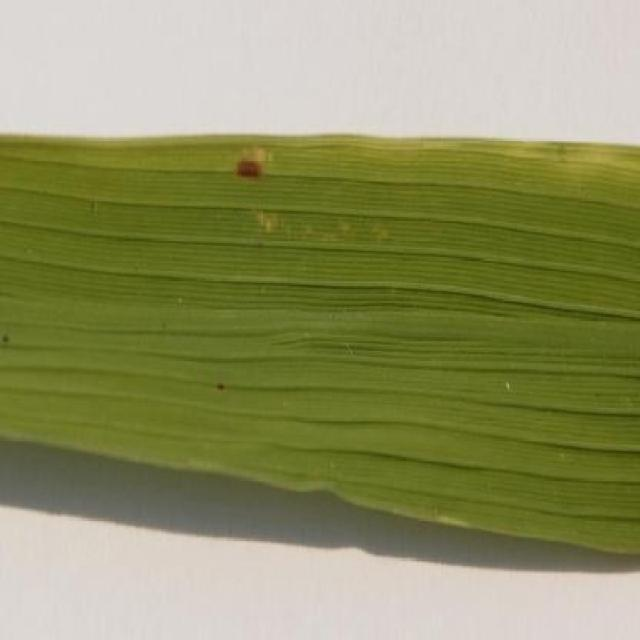Leaf_Blast: (219, 141, 275, 210)
